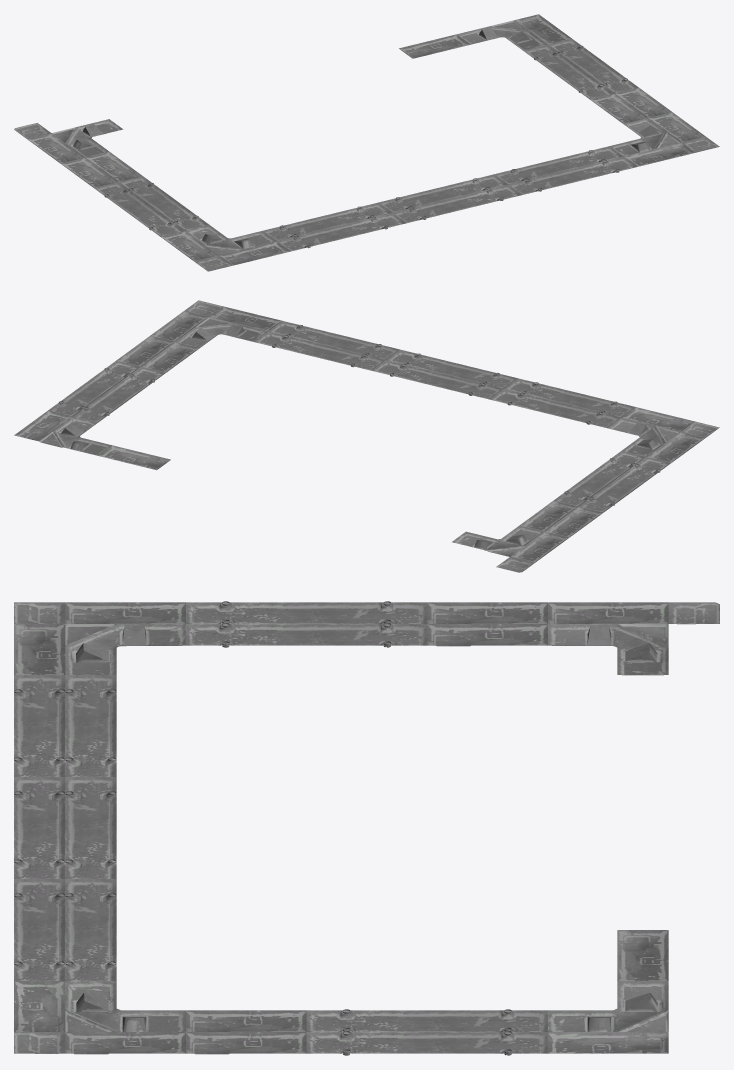
File: Building_A_Room_C_Ceiling_A.fbx
3 renders of one model, top to bottom at view 1: azimuth 30°, elevation 25°; view 2: azimuth 150°, elevation 25°; view 3: azimuth 270°, elevation 25°, orthographic. The views are drawn at different scales.
Visible parts, largest first — view 1: Geom_Building_A_Room_C_Ceiling_A_LOD00; view 2: Geom_Building_A_Room_C_Ceiling_A_LOD00; view 3: Geom_Building_A_Room_C_Ceiling_A_LOD00.
Part boxes in pixels (box(x1,y1,x2,y2)): Geom_Building_A_Room_C_Ceiling_A_LOD00: box(14, 14, 719, 271); Geom_Building_A_Room_C_Ceiling_A_LOD00: box(14, 300, 719, 572); Geom_Building_A_Room_C_Ceiling_A_LOD00: box(14, 601, 719, 1055).
Bounding box in the file's own units: 3540 × 2340 × 41.66.
